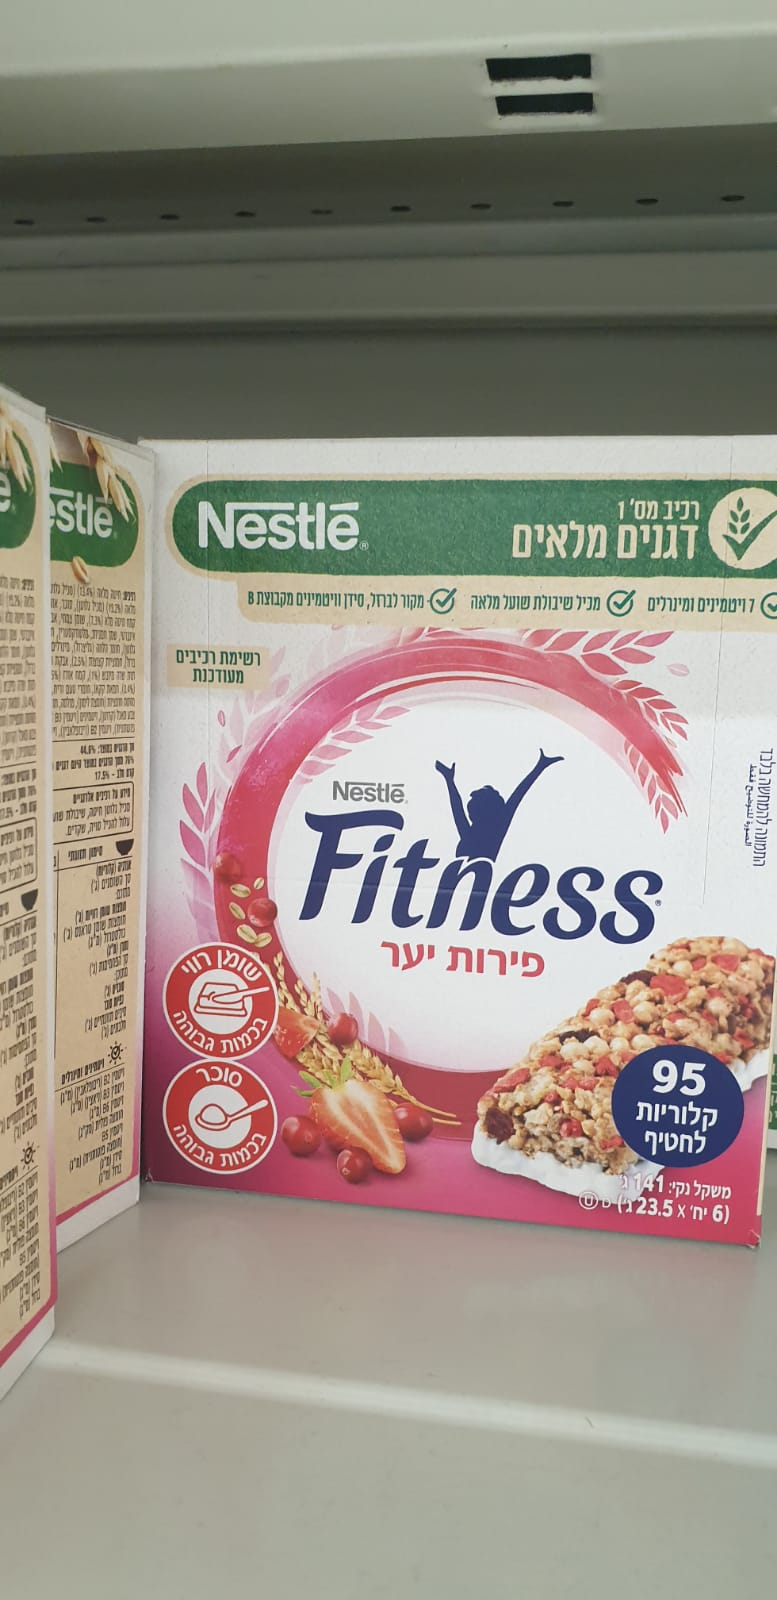fat: (164, 943, 282, 1061)
sugar: (157, 1058, 279, 1178)
